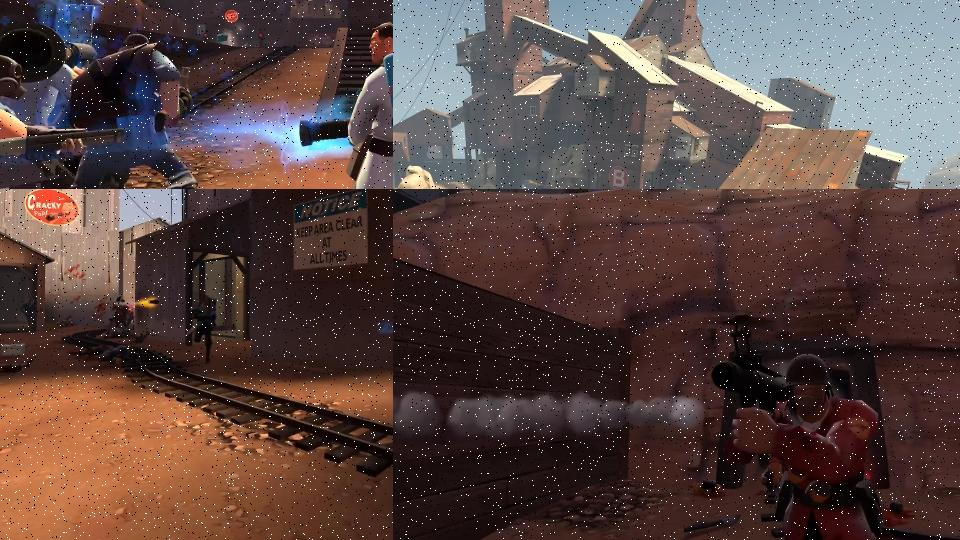Enemy: (705, 305, 896, 540), (56, 32, 211, 189), (0, 53, 124, 188), (298, 19, 393, 189), (0, 20, 96, 132), (183, 294, 218, 363), (68, 344, 139, 366), (0, 357, 39, 386), (20, 298, 38, 333), (113, 296, 130, 329)
